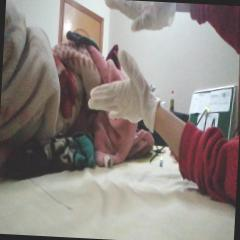gloved: (87, 48, 160, 132), (102, 0, 177, 36)
